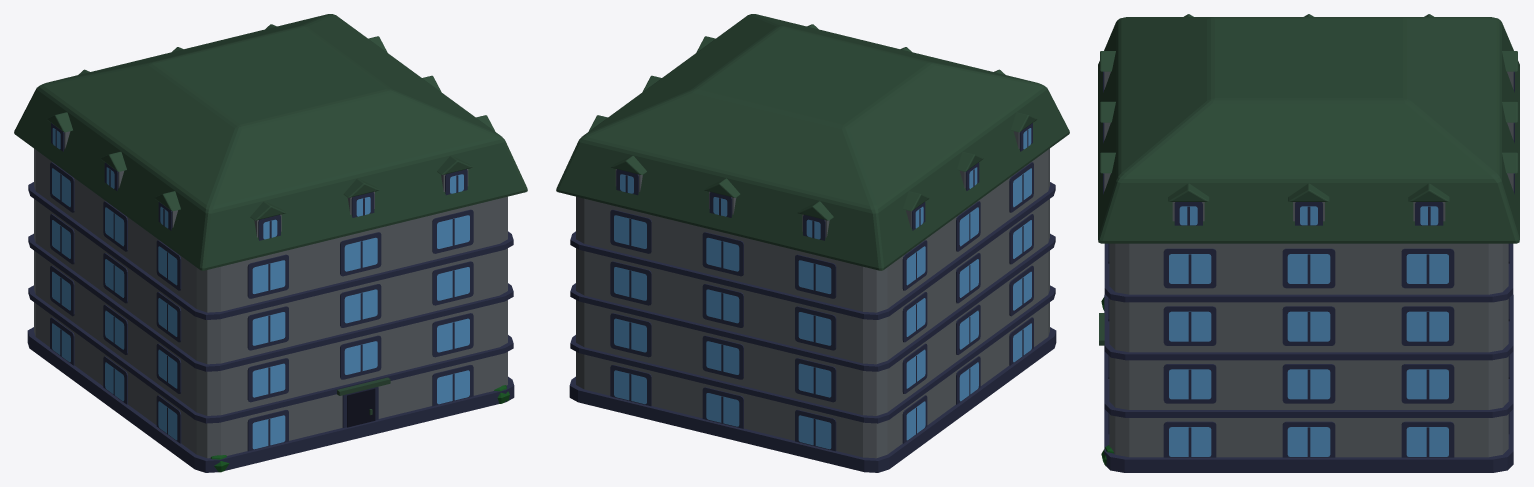
Rendered from house-2x2-4f-mansard-d.glb.
3 renders of one model, left to right at view 1: azimuth 30°, elevation 25°; view 2: azimuth 150°, elevation 25°; view 3: azimuth 270°, elevation 25°, orthographic. The views are drawn at different scales.
Visible parts, largest first — view 1: house-2x2-4f-mansard-d; view 2: house-2x2-4f-mansard-d; view 3: house-2x2-4f-mansard-d.
Part boxes in pixels (x1,y1,x2,y2): house-2x2-4f-mansard-d: (14,14,527,472); house-2x2-4f-mansard-d: (556,14,1069,472); house-2x2-4f-mansard-d: (1098,14,1519,472).
Bounding box in the file's own units: 1.99 × 1.71 × 1.99.
1 material, 1 textured.
